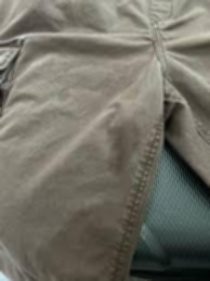oil: (105, 106, 136, 168), (60, 84, 69, 98)
